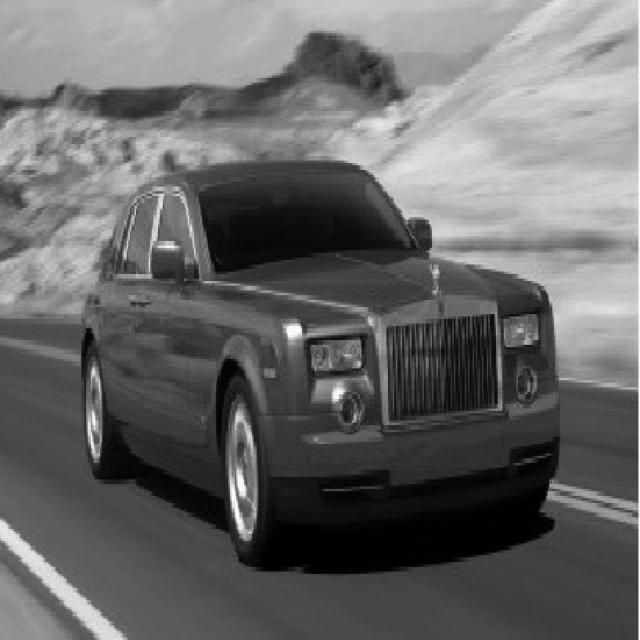car: (80, 156, 560, 567)
